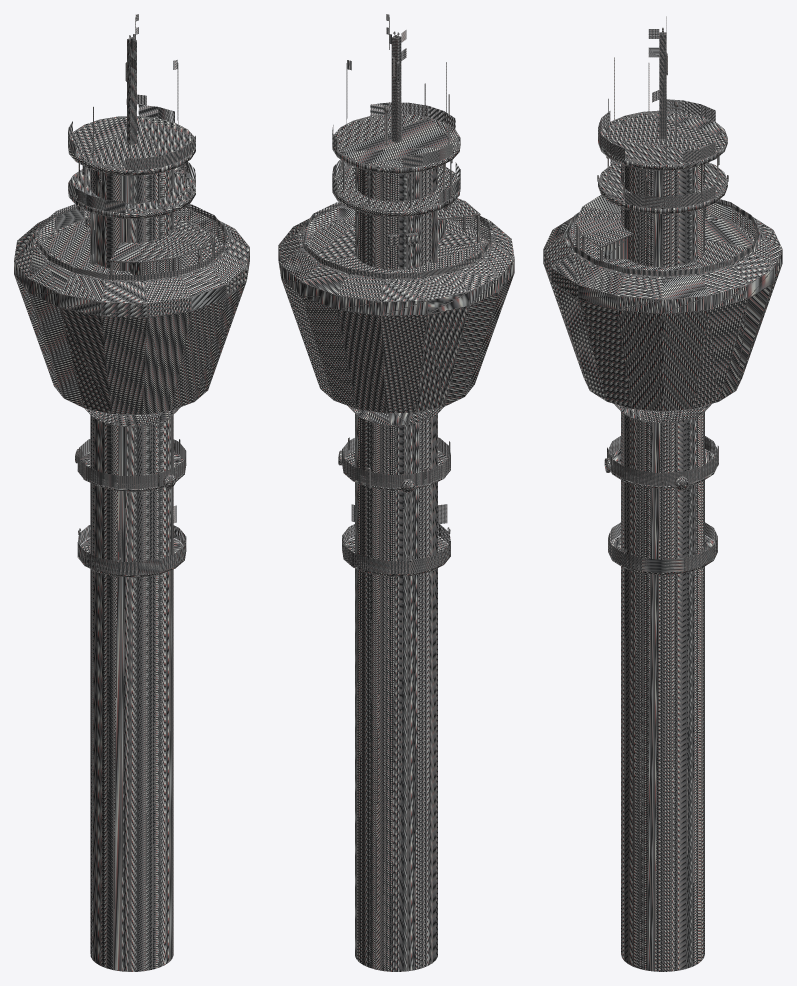
Rendered from Puijo.gltf.
3 renders of one model, left to right at view 1: azimuth 30°, elevation 25°; view 2: azimuth 150°, elevation 25°; view 3: azimuth 270°, elevation 25°, orthographic.
Parts seen in each view (by area): view 1: Opaque, Alpha; view 2: Opaque, Alpha; view 3: Opaque, Alpha.
Boxes of the visible parts, bbox=[...] form: Opaque: bbox=[14, 17, 249, 971]; Alpha: bbox=[37, 14, 226, 574]; Opaque: bbox=[278, 17, 514, 971]; Alpha: bbox=[301, 14, 491, 573]; Opaque: bbox=[543, 16, 782, 971]; Alpha: bbox=[567, 29, 758, 572].
Bounding box in the file's own units: 20.01 × 86.95 × 20.01.
